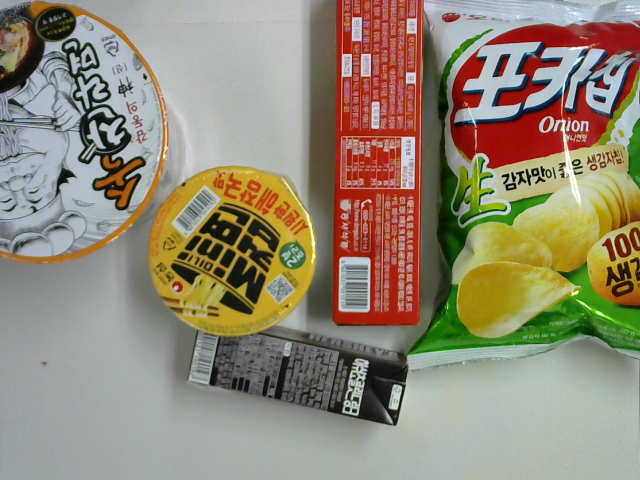Hejangchan: (1, 1, 190, 265)
Hejangmini: (139, 164, 318, 344)
Hush_Choco_Drink: (185, 315, 411, 429)
Pocachip_Onion: (401, 1, 639, 377)
Ritz_Cracker: (332, 1, 424, 330)
